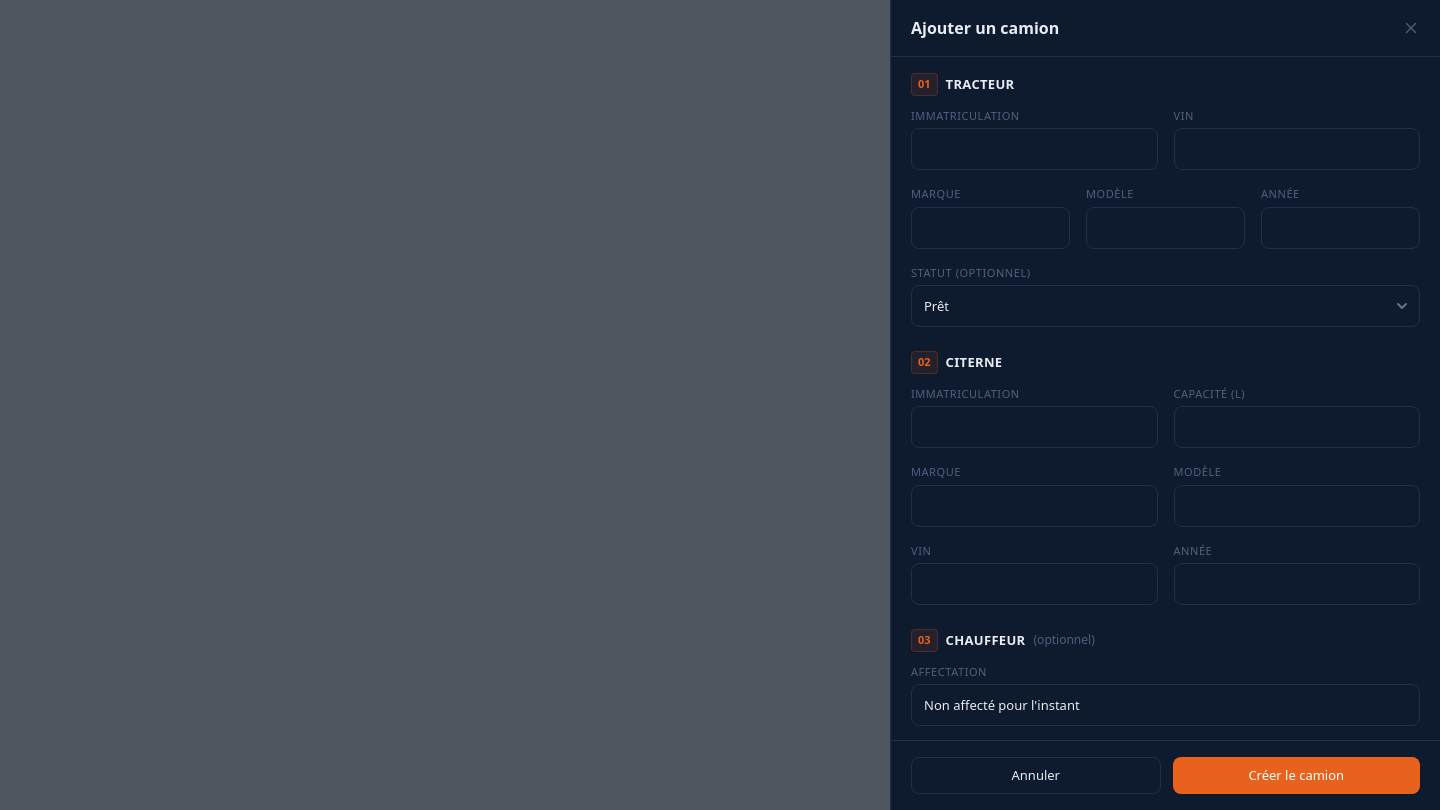
Test case: AddTruckDrawer › when open › filters the driver list as text is typed
Focus the dropdown labelled "Affectation". click: (1166, 705)
box: [911,684,1420,726]
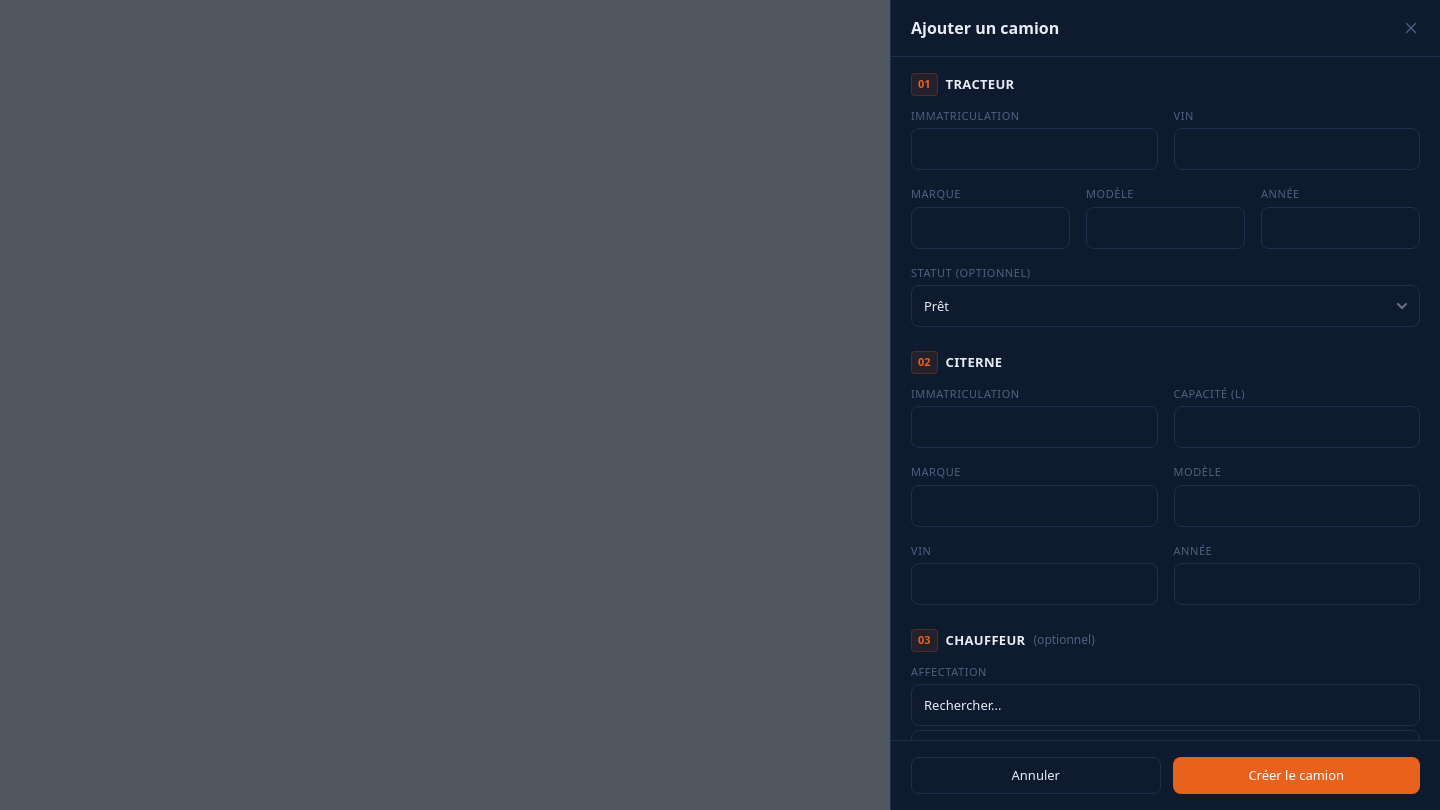
Type "Ibra" into the dropdown labelled "Affectation". click: (1166, 705)
box: [911,684,1420,726]
(page scrolled)
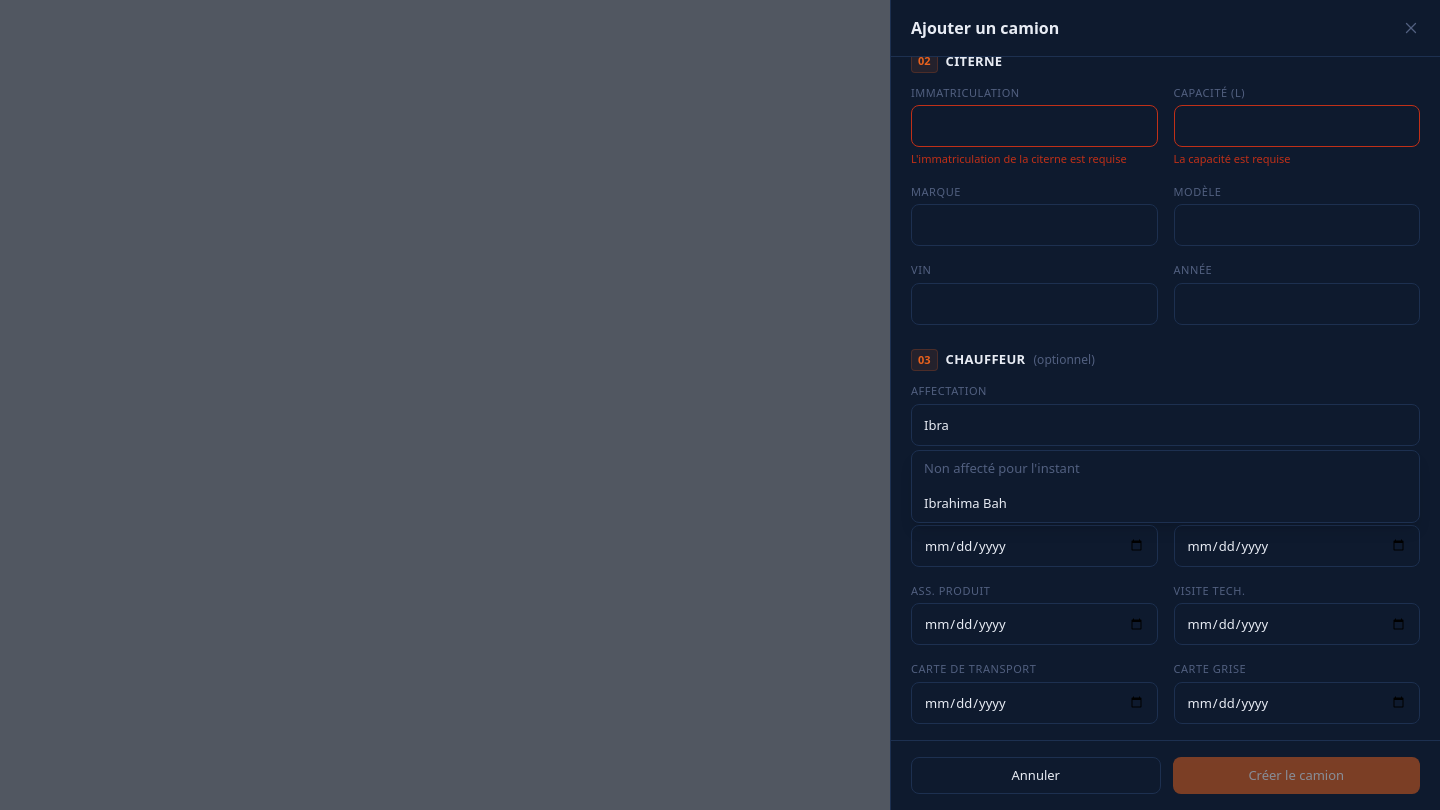
Now the button "Ibrahima Bah" is shown, box [912,486,1419,522]
